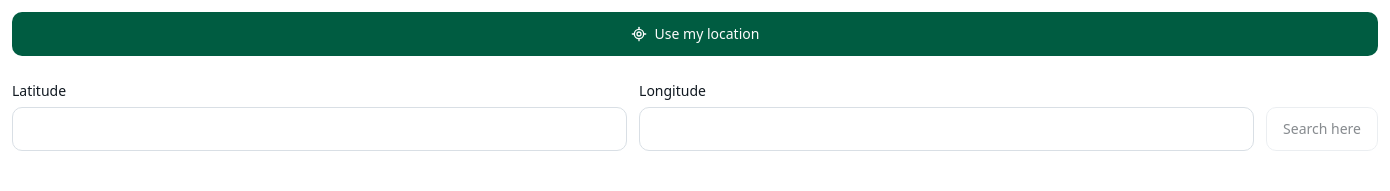
Scenario: LocationPicker › locationPicker_permissionDenied_offersManualEntryWithoutBlocking
The width and height of the screenshot is (1390, 191).
Click the button "Use my location": (695, 34) [12,12,1378,56]
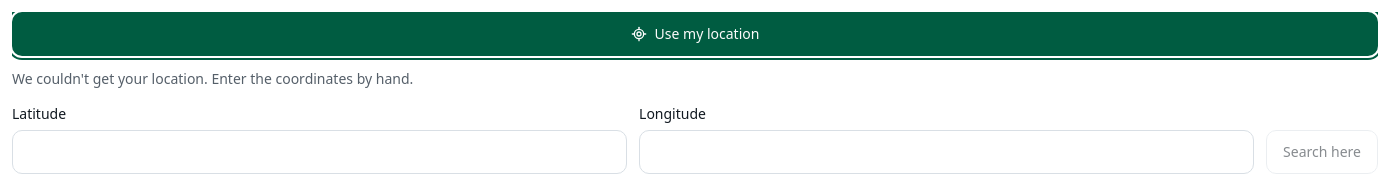
expect the field labelled "Latitude" is enabled: met, box [12,130,627,174]
expect the text "We couldn't get your location. Enter the coordinates by hand." is shown: met, box [12,69,413,88]
